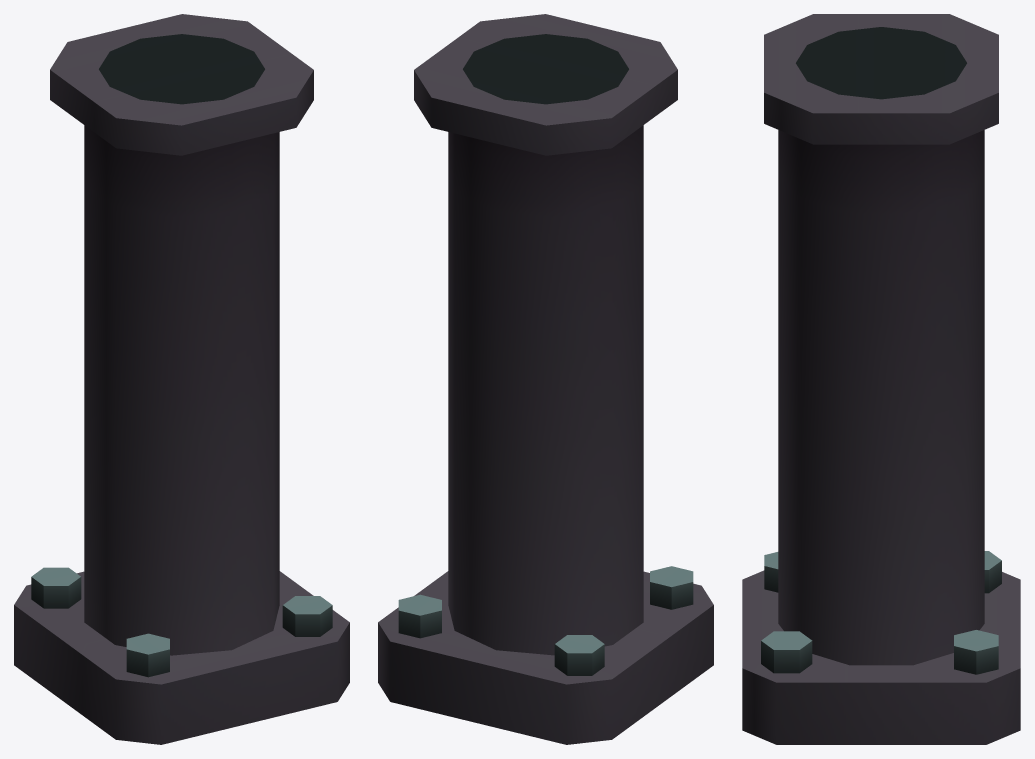
File: Pipe_2C.fbx
3 renders of one model, left to right at view 1: azimuth 30°, elevation 25°; view 2: azimuth 150°, elevation 25°; view 3: azimuth 270°, elevation 25°, orthographic. The views are drawn at different scales.
Parts seen in each view (by area): view 1: Pipe_2C; view 2: Pipe_2C; view 3: Pipe_2C.
Part boxes in pixels (x1=…): Pipe_2C: x1=14, y1=14, x2=349, y2=744; Pipe_2C: x1=378, y1=14, x2=713, y2=744; Pipe_2C: x1=742, y1=14, x2=1020, y2=744.
Size of the model in its own units: 1.62 by 4 by 1.62.
